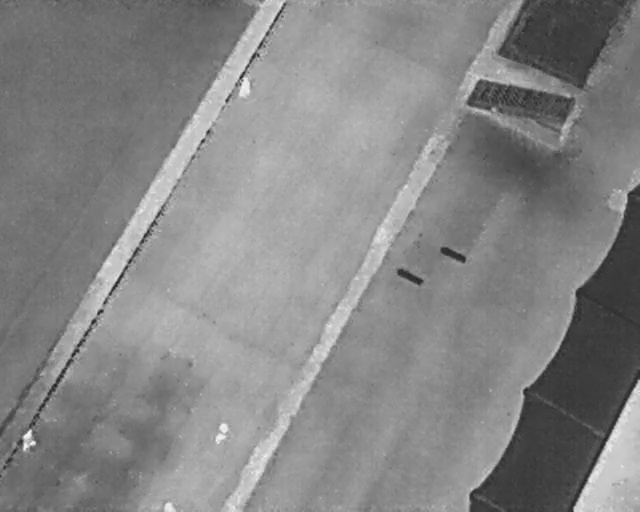Person: (213, 419, 231, 446), (19, 427, 37, 451), (238, 74, 252, 100), (162, 499, 176, 511)
